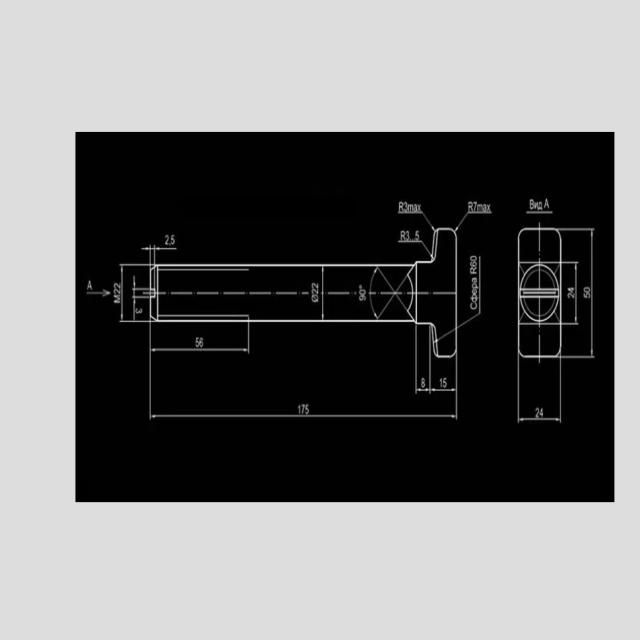marking_line: (147, 395, 459, 420), (517, 357, 563, 424), (148, 323, 251, 352), (580, 228, 596, 361), (414, 326, 432, 394), (429, 355, 459, 393), (562, 259, 579, 326), (119, 263, 132, 324), (398, 211, 435, 232), (132, 277, 150, 320), (455, 212, 492, 232), (142, 246, 179, 264), (86, 289, 112, 297)
numeric: (194, 336, 200, 348), (420, 377, 426, 389), (310, 282, 320, 289), (170, 235, 176, 246), (304, 403, 310, 414), (415, 228, 420, 241), (135, 306, 143, 314), (438, 377, 443, 389), (442, 376, 447, 388), (403, 200, 408, 212), (359, 290, 367, 297), (567, 292, 575, 299), (567, 287, 575, 294), (406, 230, 411, 241), (199, 337, 204, 348), (310, 288, 319, 294), (583, 294, 592, 300), (359, 295, 367, 301), (583, 287, 591, 293), (165, 235, 170, 244), (297, 403, 301, 414), (301, 403, 305, 414), (539, 407, 543, 418), (114, 283, 121, 289), (113, 289, 121, 294), (535, 408, 539, 418)
special_symbol: (311, 295, 319, 303), (359, 285, 364, 290)
